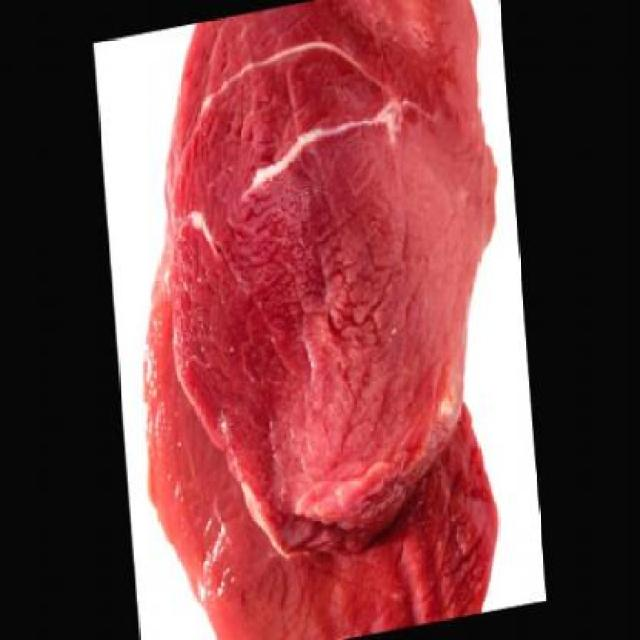beef: (108, 0, 533, 638)
